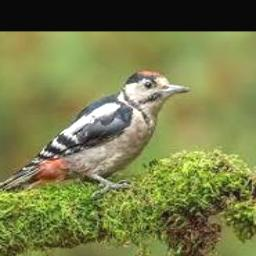Woodpecker: (0, 70, 190, 194)
